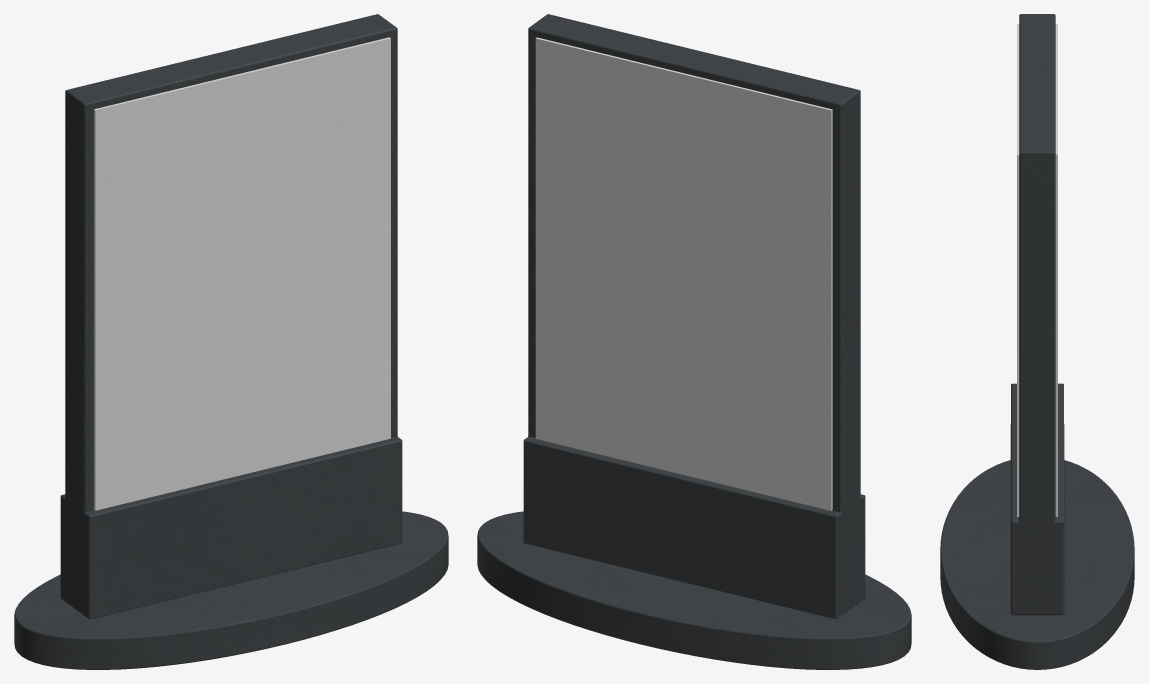
File: led_singleSign.obj
3 views of the same model, side by side, from view 1: azimuth 30°, elevation 25°; view 2: azimuth 150°, elevation 25°; view 3: azimuth 270°, elevation 25° (orthographic). The views are drawn at different scales.
Visible parts, largest first — view 1: led_singleSign_screen, led_singleSign_metal; view 2: led_singleSign_screen, led_singleSign_metal; view 3: led_singleSign_metal, led_singleSign_screen.
Boxes of the visible parts, left/top/right/bottom form: led_singleSign_screen: left=93, top=37, right=390, bottom=510; led_singleSign_metal: left=14, top=14, right=448, bottom=669; led_singleSign_screen: left=535, top=37, right=832, bottom=510; led_singleSign_metal: left=477, top=14, right=911, bottom=669; led_singleSign_metal: left=940, top=14, right=1134, bottom=669; led_singleSign_screen: left=1017, top=24, right=1057, bottom=516.
Size of the model in its own units: 135 by 168 by 59.81.
